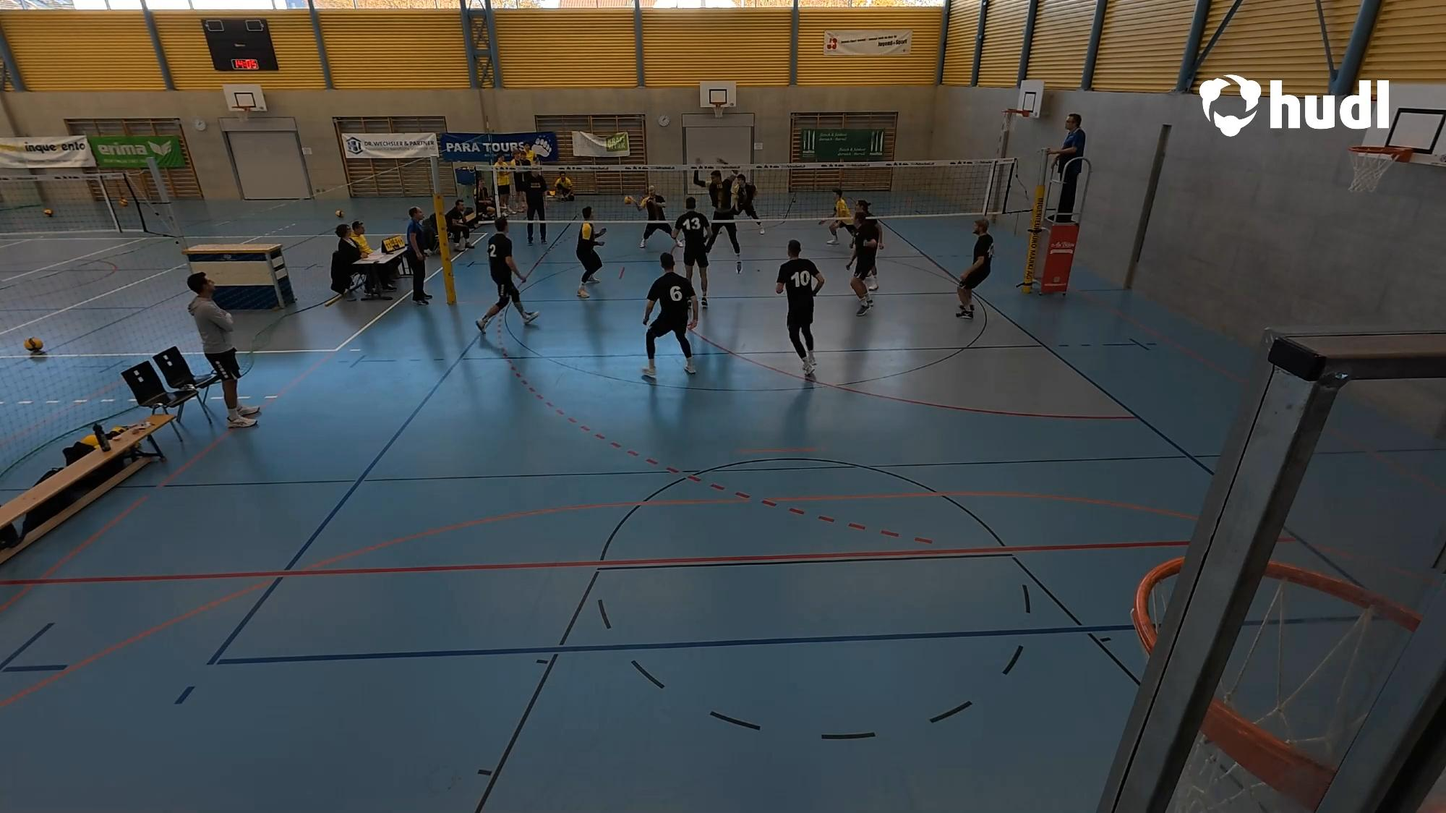Dig: (623, 179, 684, 259)
Player: (474, 212, 539, 333), (641, 253, 700, 383), (775, 235, 823, 383), (690, 153, 743, 275), (677, 198, 716, 318), (954, 216, 995, 322), (573, 203, 609, 299), (847, 214, 880, 311), (857, 196, 888, 292), (726, 171, 768, 233), (821, 190, 852, 250)
ball: (621, 190, 634, 206)
